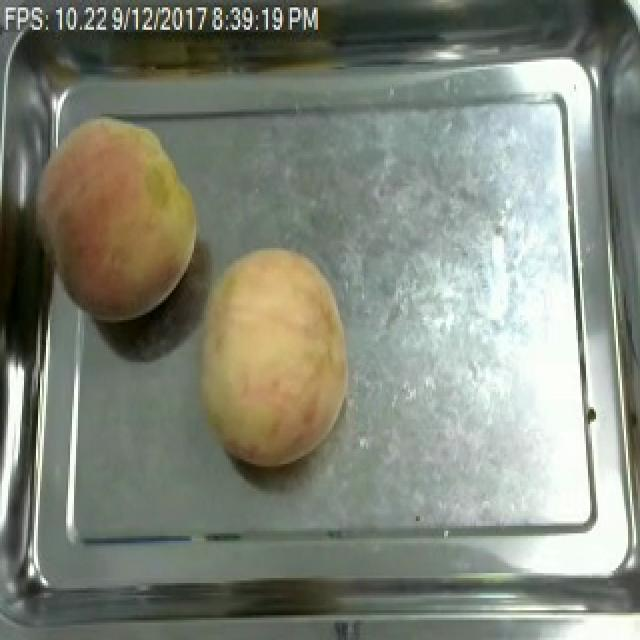Fruit: (22, 107, 208, 330), (186, 238, 356, 471)
